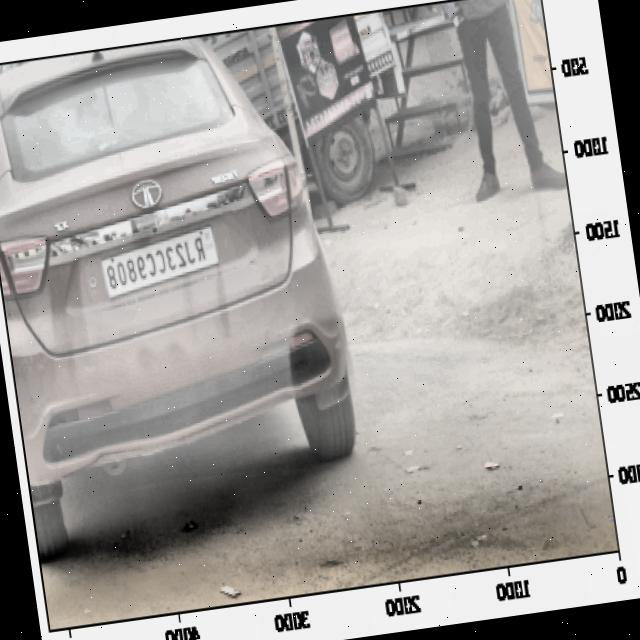license_plate: (100, 230, 213, 301)
